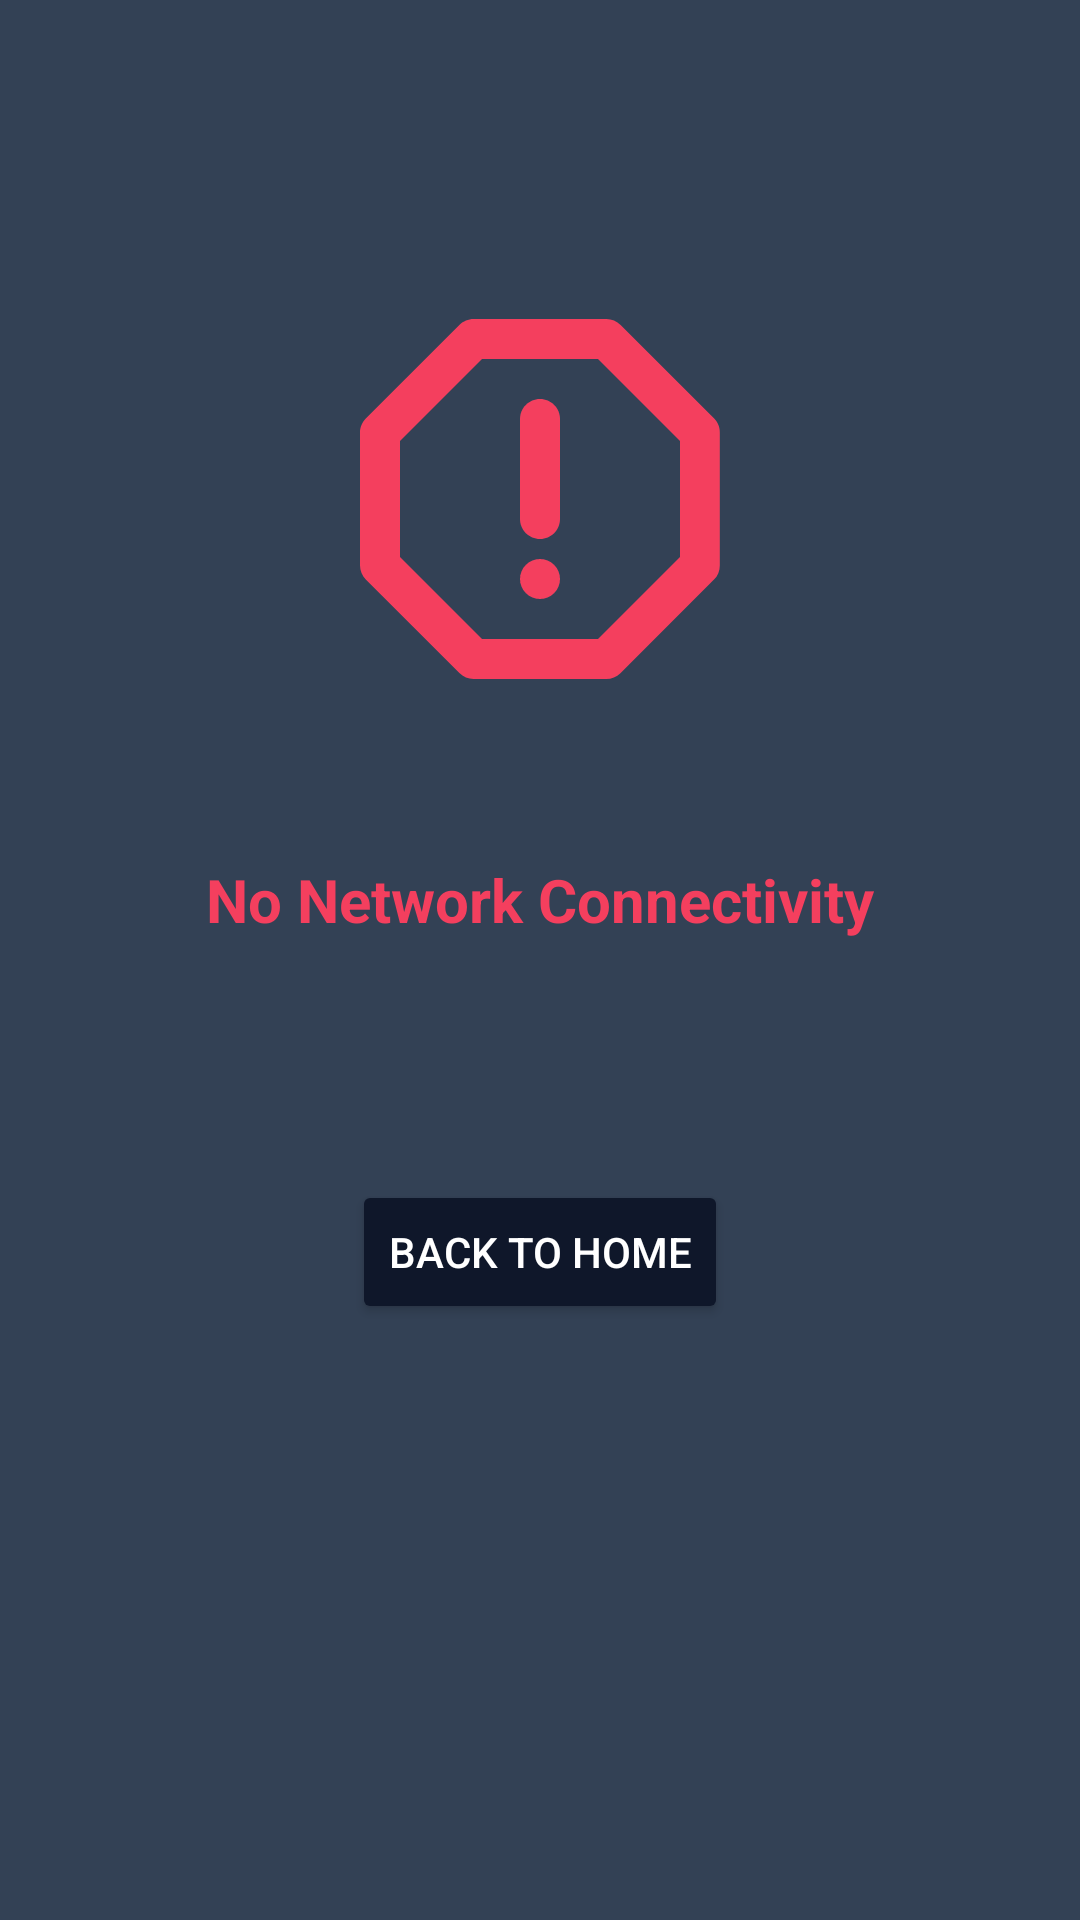

Icon bounding boxes for this 1080 × 1920 phone screenshot, format (x1, y1, x2, y2):
report gmailerrorred: (360, 319, 720, 679)
